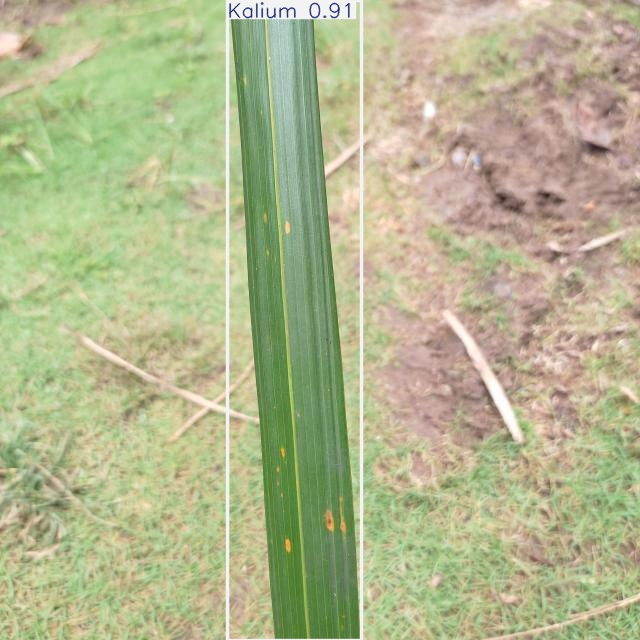Kalium: (227, 0, 361, 640)
